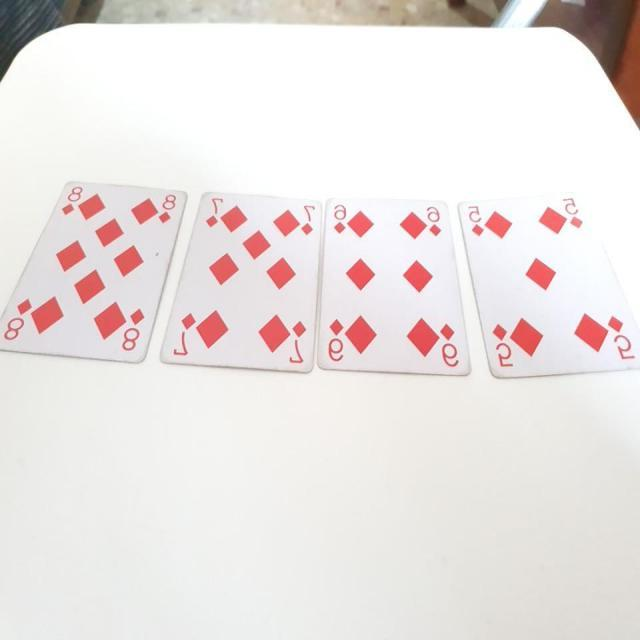5 of diamonds: (456, 188, 640, 378)
6 of diamonds: (316, 193, 474, 374)
7 of diamonds: (158, 192, 324, 375)
8 of diamonds: (0, 180, 189, 364)
